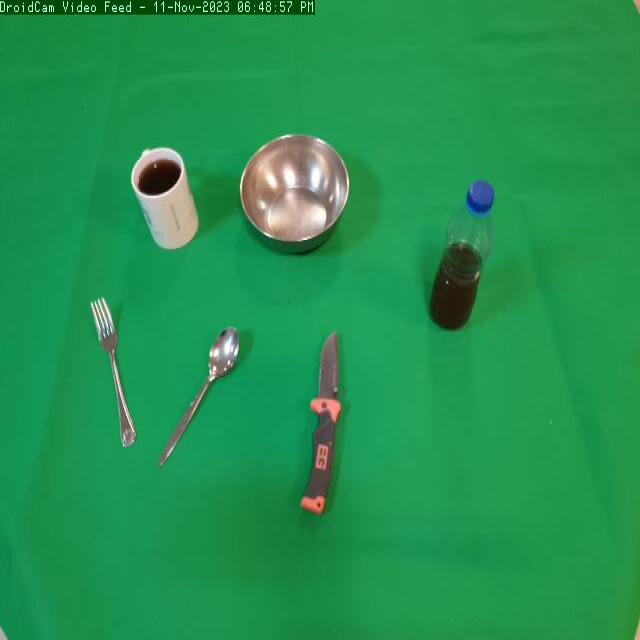bowl: (238, 132, 352, 264)
fork: (85, 286, 148, 454)
fullbottle: (424, 168, 500, 345)
fullcup: (130, 140, 208, 263)
knife: (293, 324, 371, 532)
spoon: (157, 320, 244, 464)
